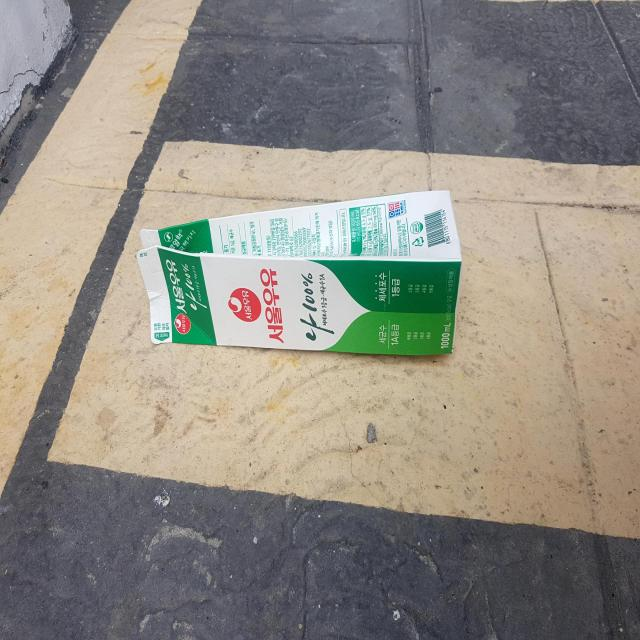paperpack: (136, 190, 462, 354)
